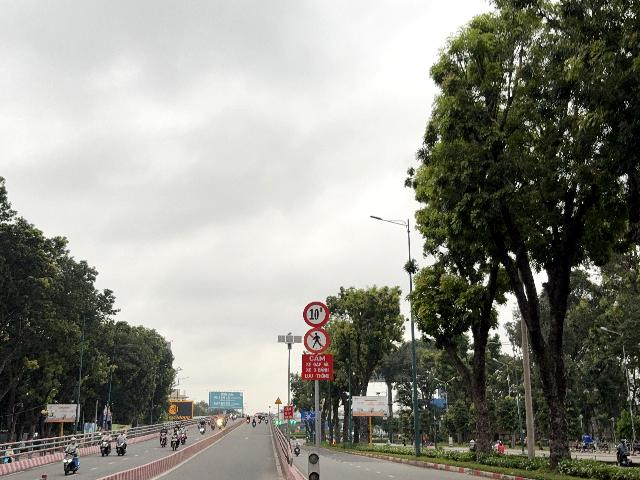cam-nguoi-di-bo: (303, 327, 330, 353)
han-che-trong-luong-xe: (303, 301, 329, 327)
